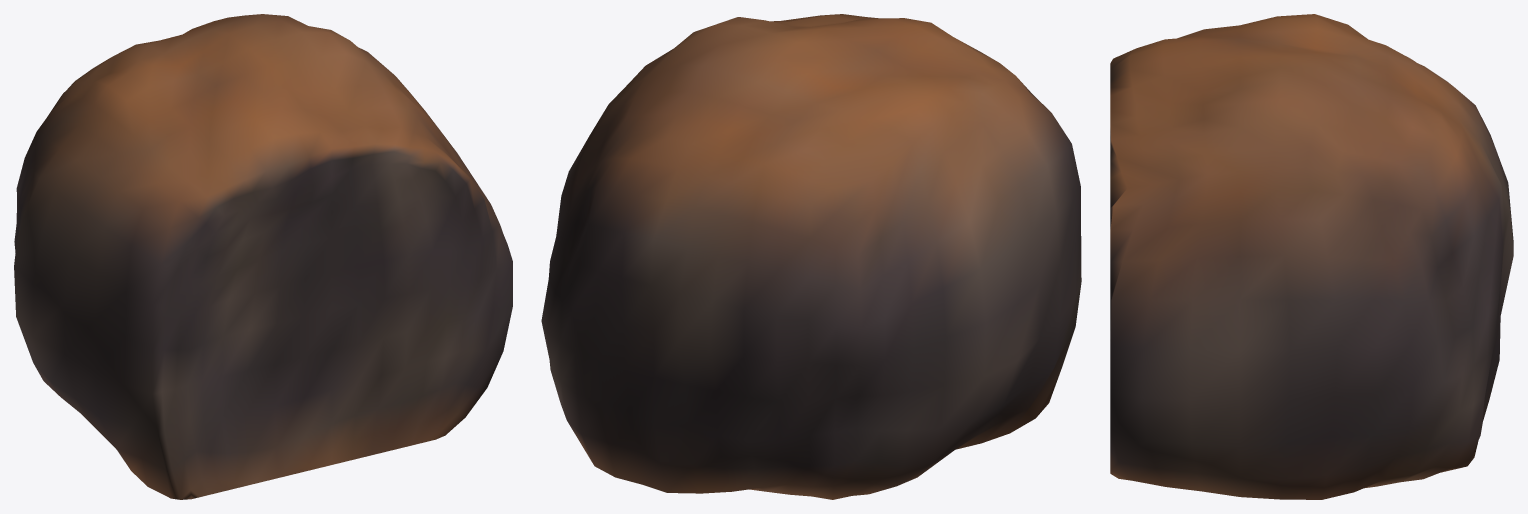
The model's file is half-dome.glb.
3 views of the same model, side by side, from view 1: azimuth 30°, elevation 25°; view 2: azimuth 150°, elevation 25°; view 3: azimuth 270°, elevation 25° (orthographic). The views are drawn at different scales.
Visible parts, largest first — view 1: rock-half-dome; view 2: rock-half-dome; view 3: rock-half-dome.
Part boxes in pixels (x1,y1,x2,y2): rock-half-dome: [14, 14, 512, 499]; rock-half-dome: [541, 14, 1081, 499]; rock-half-dome: [1110, 14, 1513, 499].
Bounding box in the file's own units: 0.6 × 0.5 × 0.5.
